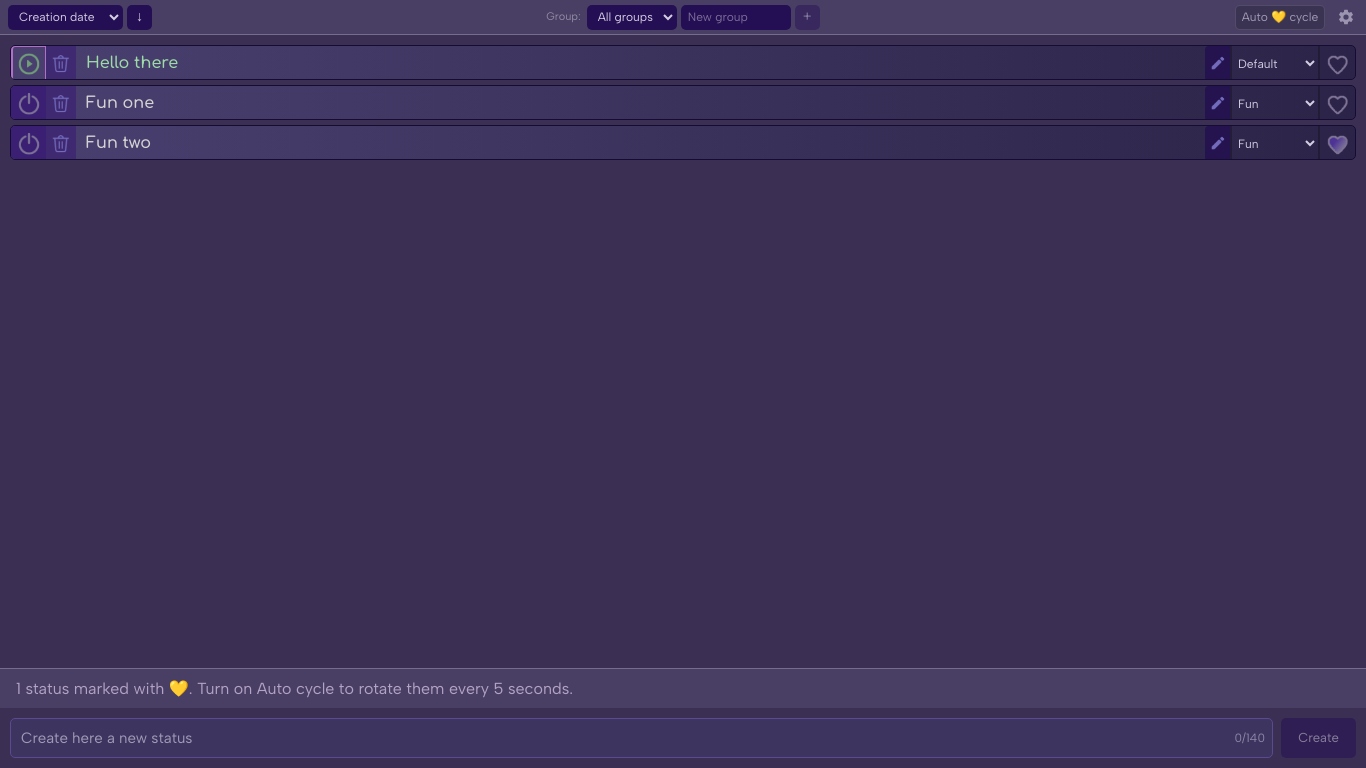
Test case: StatusPage › activates a row and marks it as the active one
Click the button named "Activate Fun one".
click(28, 104)  # box [11,86,46,121]
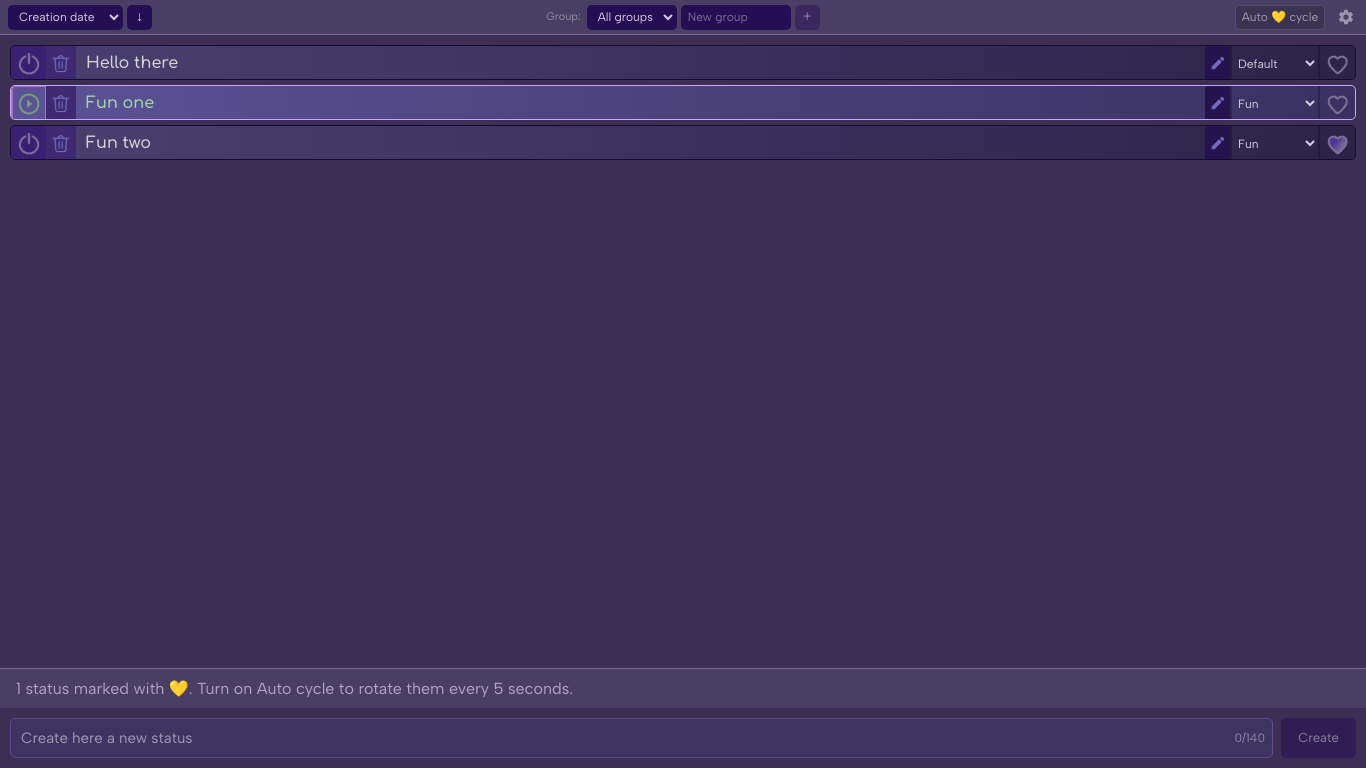
Result: the button named "Activate Hello there" is shown at [11,46,46,80]
